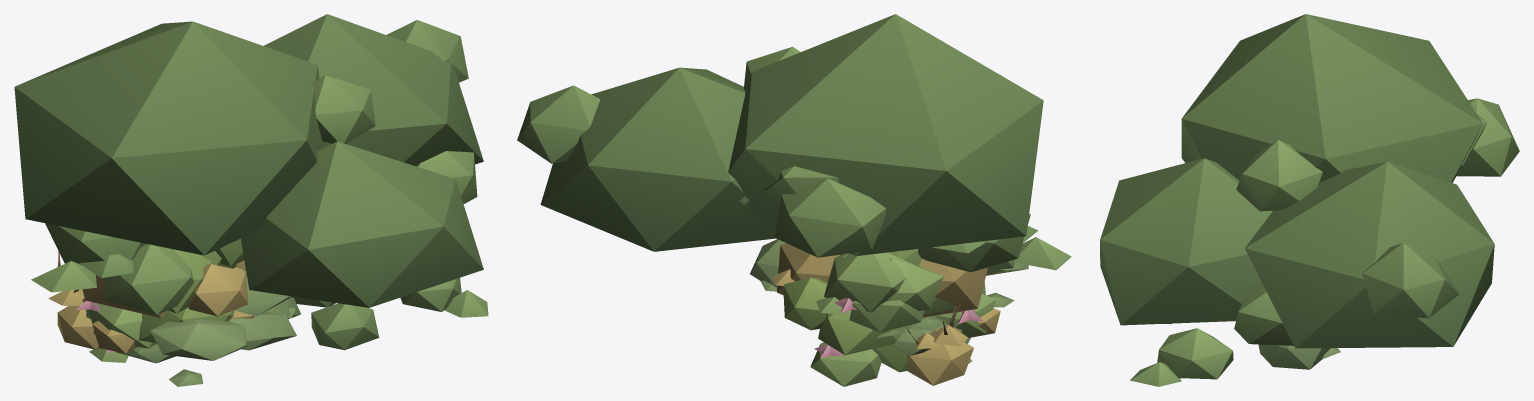
The model's file is bush_pack.glb.
3 renders of one model, left to right at view 1: azimuth 30°, elevation 25°; view 2: azimuth 150°, elevation 25°; view 3: azimuth 270°, elevation 25°, orthographic. The views are drawn at different scales.
Visible parts, largest first — view 1: bush_large_01, bush_low_01, bush_dry_01, bush_round_01, bush_flowering_01; view 2: bush_large_01, bush_flowering_01, bush_dry_01, bush_round_01, bush_low_01; view 3: bush_large_01, bush_low_01.
Part boxes in pixels (box(x1,y1,x2,y2)): bush_large_01: box(14, 14, 488, 350); bush_low_01: box(86, 270, 335, 386); bush_dry_01: box(48, 251, 254, 353); bush_round_01: box(138, 238, 244, 342); bush_flowering_01: box(76, 298, 156, 362); bush_large_01: box(517, 14, 1071, 272); bush_flowering_01: box(810, 252, 995, 386); bush_dry_01: box(772, 243, 1000, 385); bush_round_01: box(783, 249, 985, 372); bush_low_01: box(750, 239, 1028, 355); bush_large_01: box(1100, 14, 1519, 386); bush_low_01: box(1258, 344, 1340, 369).
Bounding box in the file's own units: 1.12 × 0.7383 × 0.8736.
